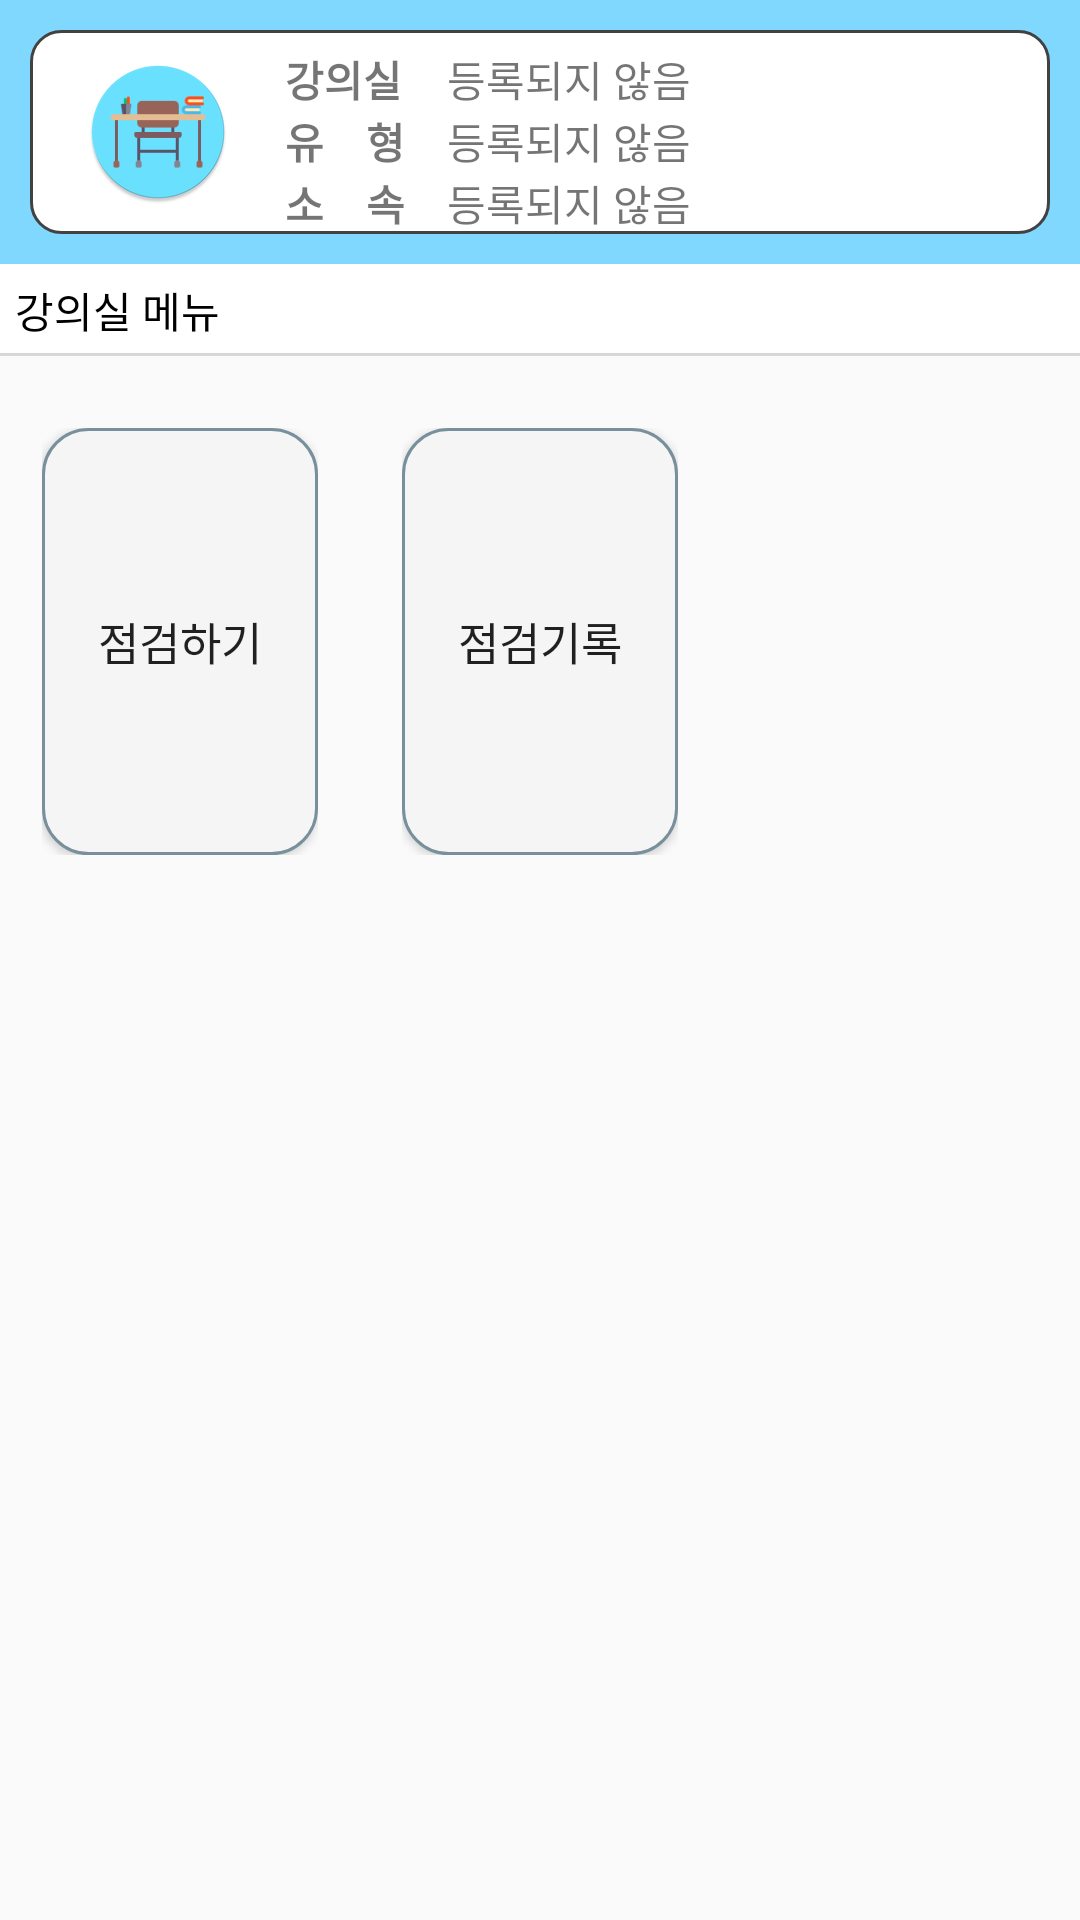

Screen size 1080w x 1920h. Icon name, then its box in pixels as bbox(x1, y1, x2, y2):
classroom: bbox(91, 65, 225, 201)
